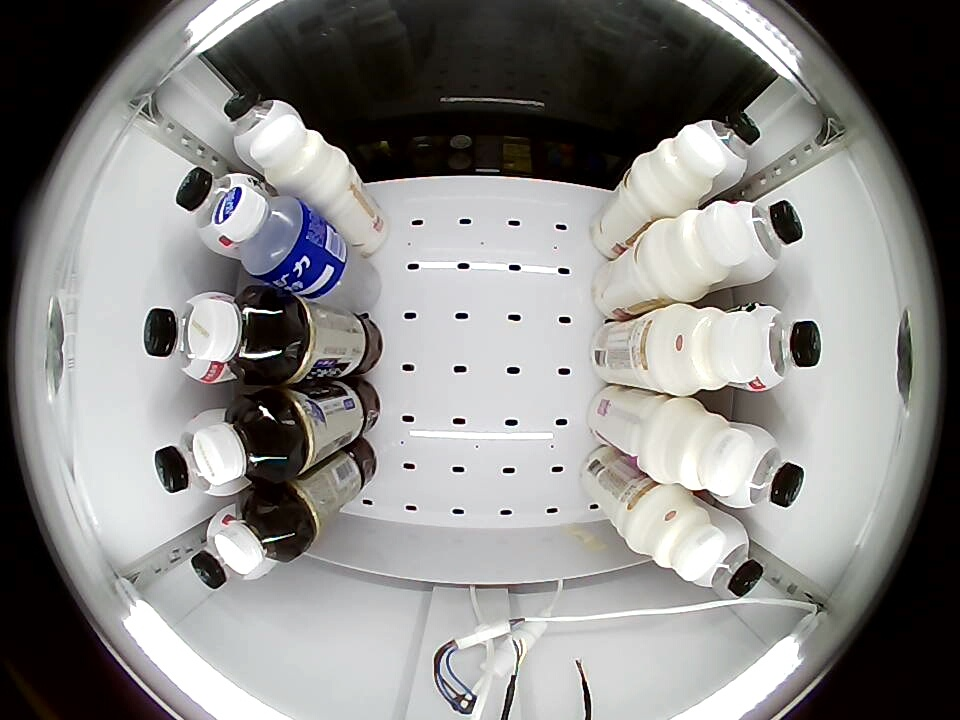baokuangli: (212, 183, 313, 284)
wulongcha: (189, 287, 291, 385), (193, 395, 291, 489), (214, 492, 298, 575)
yingyangkuaixian: (645, 397, 752, 497), (650, 303, 764, 396), (245, 105, 351, 204), (646, 202, 748, 303), (626, 485, 725, 582), (632, 124, 725, 220)
yuanqishui: (714, 425, 805, 510), (738, 302, 822, 393), (716, 198, 804, 283), (175, 166, 255, 252), (144, 294, 220, 384), (154, 413, 229, 496), (222, 86, 298, 163), (690, 518, 765, 596), (189, 514, 260, 589), (694, 107, 760, 187)
